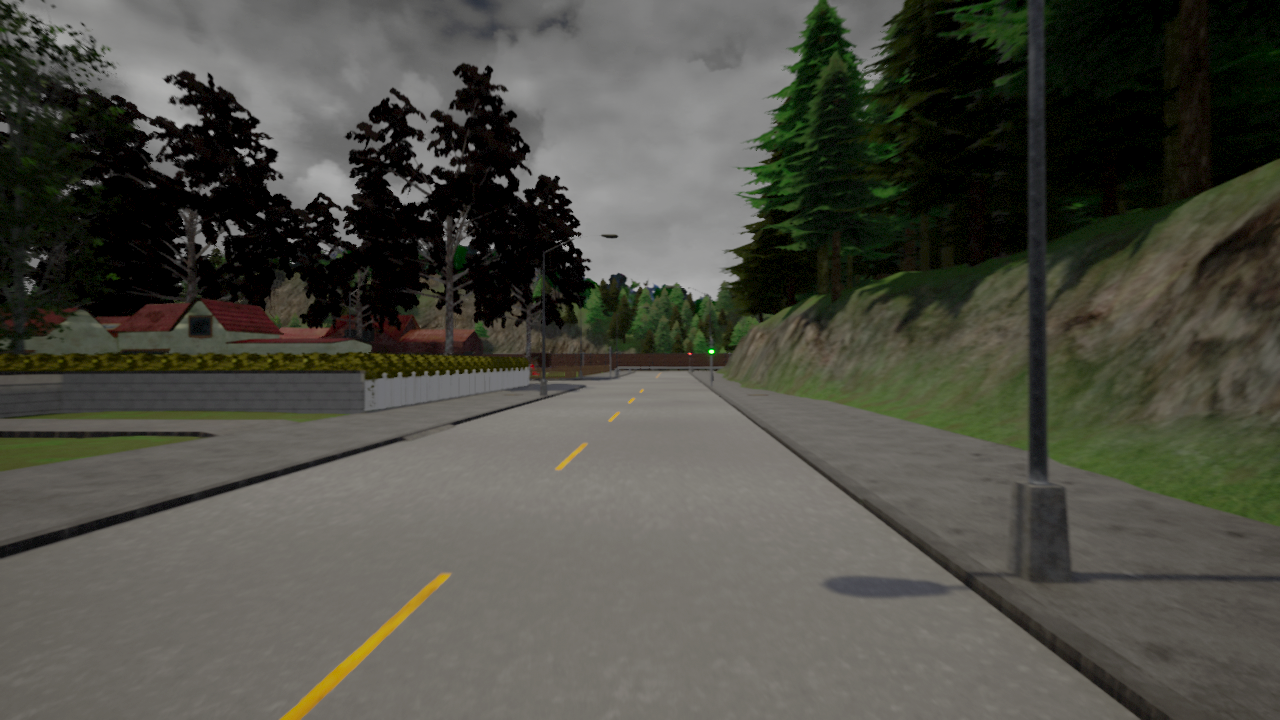green: (708, 339, 715, 355)
